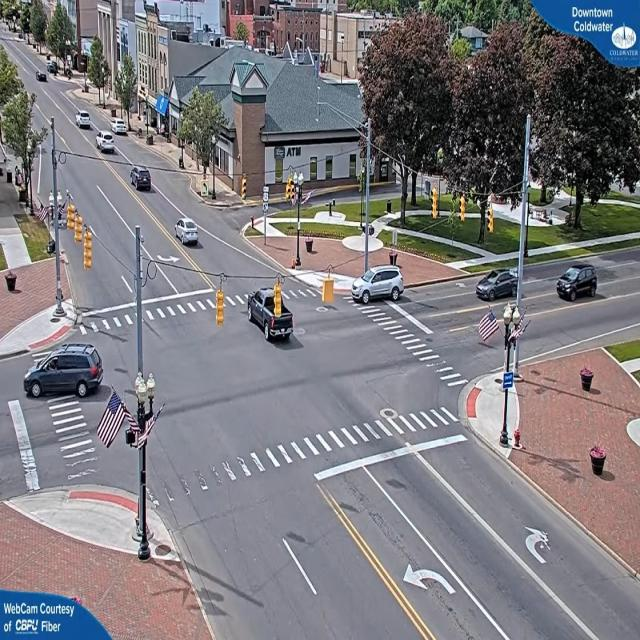car: (24, 342, 105, 402), (246, 287, 294, 344), (356, 269, 404, 306), (556, 263, 601, 300), (476, 269, 518, 302), (175, 217, 201, 247), (130, 167, 154, 192), (95, 131, 116, 153), (76, 112, 94, 130), (113, 120, 129, 136), (38, 69, 50, 82)
